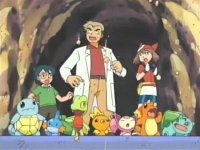mudkip: (43, 111, 65, 137)
